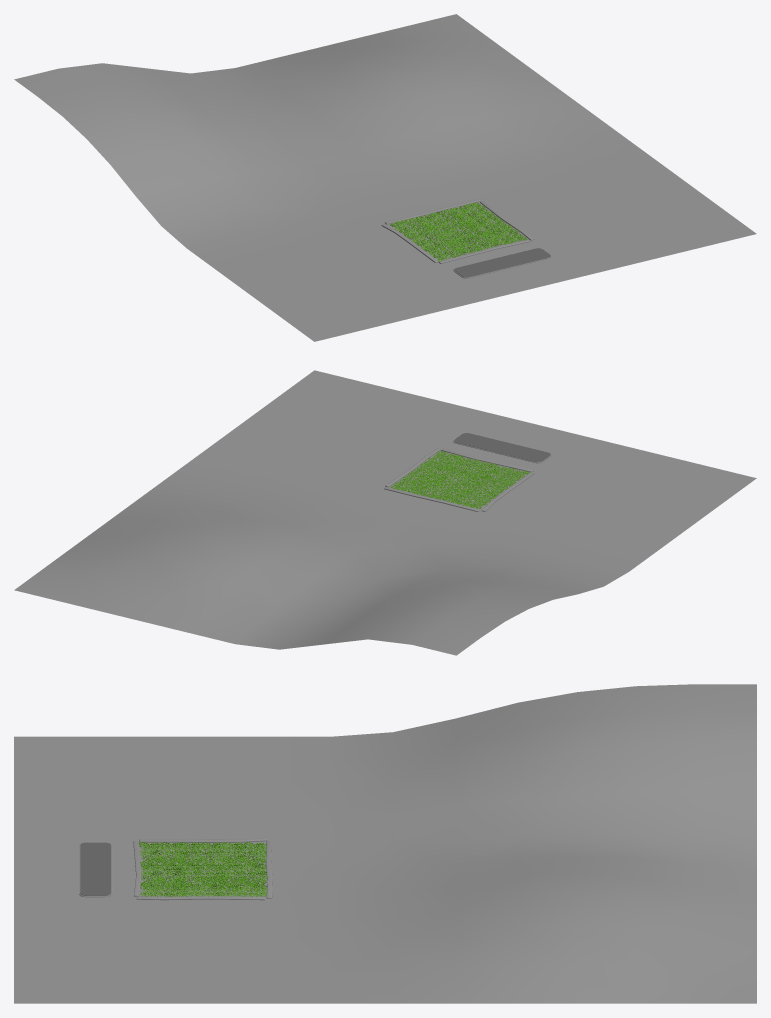
Rendered from GroundEnvironment.fbx.
3 views of the same model, one above another, from view 1: azimuth 30°, elevation 25°; view 2: azimuth 150°, elevation 25°; view 3: azimuth 270°, elevation 25° (orthographic). The views are drawn at different scales.
Parts seen in each view (by area): view 1: Plane001, Cube018, GrassGround, Box001, Line004; view 2: Plane001, Cube018, GrassGround, Box001, Line004; view 3: Plane001, Cube018, GrassGround, Box001, Line004.
Part boxes in pixels (bbox=[...]): Plane001: bbox=[14, 14, 756, 341]; Cube018: bbox=[390, 202, 528, 261]; GrassGround: bbox=[389, 202, 528, 260]; Box001: bbox=[453, 248, 551, 278]; Line004: bbox=[381, 199, 534, 263]; Plane001: bbox=[14, 370, 756, 655]; Cube018: bbox=[391, 451, 530, 508]; GrassGround: bbox=[390, 450, 528, 509]; Box001: bbox=[453, 433, 551, 463]; Line004: bbox=[384, 448, 534, 511]; Plane001: bbox=[14, 684, 756, 1003]; Cube018: bbox=[139, 842, 266, 896]; GrassGround: bbox=[139, 843, 267, 897]; Box001: bbox=[79, 842, 112, 897]; Line004: bbox=[133, 838, 272, 900].
Size of the model in its own units: 1240 by 117 by 1458.
